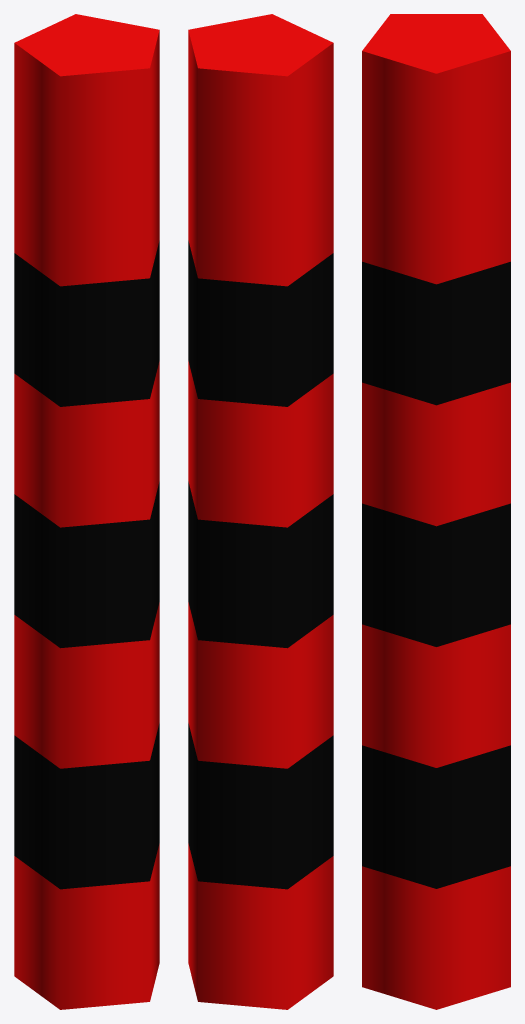
File: pilar2.FBX
The picture shows the model from 3 angles, left to right: view 1: azimuth 30°, elevation 25°; view 2: azimuth 150°, elevation 25°; view 3: azimuth 270°, elevation 25°; orthographic projection.
Visible parts, largest first — view 1: Cylinder001; view 2: Cylinder001; view 3: Cylinder001.
Part boxes in pixels (x1,y1,x2,y2): Cylinder001: (14,14,159,1009); Cylinder001: (188,14,333,1009); Cylinder001: (362,14,510,1009).
Bounding box in the file's own units: 4.52 × 33 × 4.76.
